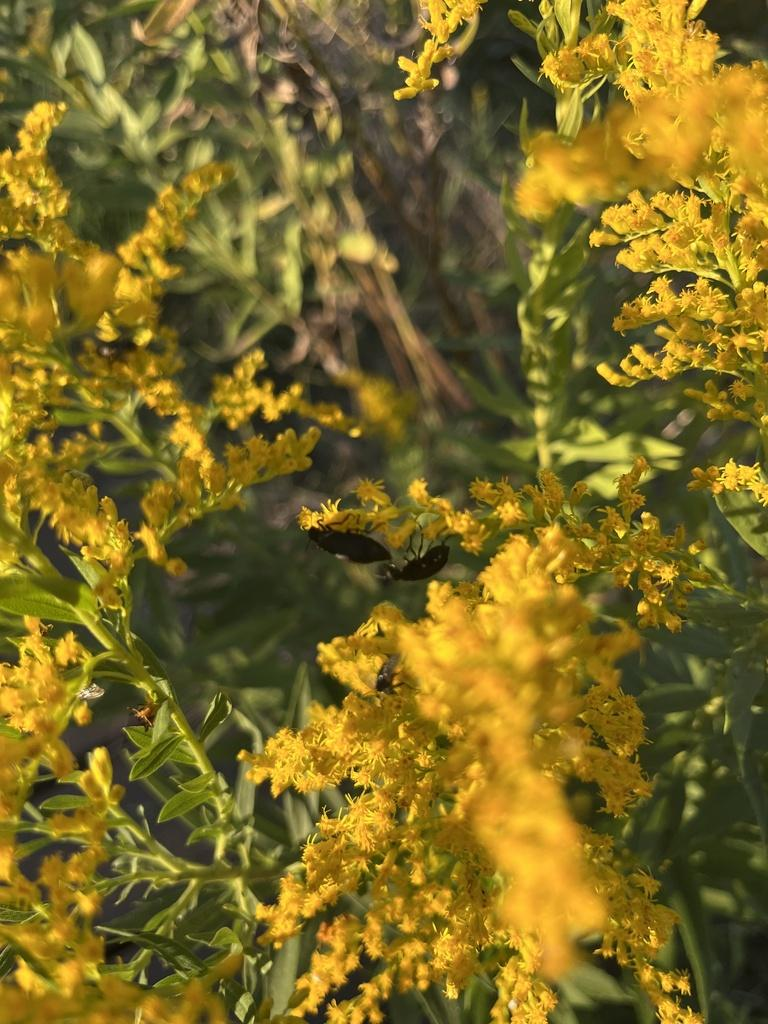blister_beetle: (290, 485, 399, 592), (377, 501, 468, 601)
